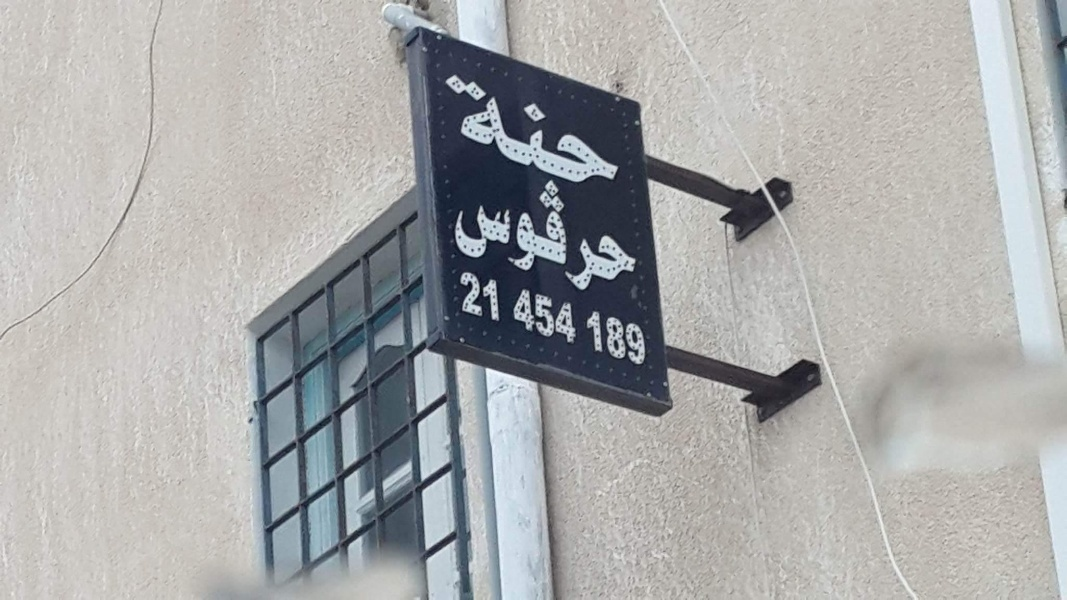text: (465, 157, 480, 311), (481, 157, 496, 311), (497, 157, 512, 311), (513, 157, 528, 311), (529, 157, 544, 311), (545, 157, 560, 311), (561, 157, 576, 311), (577, 157, 592, 311), (593, 157, 608, 311), (609, 157, 624, 311), (625, 157, 640, 311), (449, 67, 464, 209), (465, 67, 480, 209), (481, 67, 496, 209), (497, 67, 512, 209), (513, 67, 528, 209), (529, 67, 544, 209), (545, 67, 560, 209), (561, 67, 576, 209), (577, 67, 592, 209), (593, 67, 608, 209), (609, 67, 624, 209), (457, 157, 464, 311), (513, 279, 528, 349), (529, 279, 544, 349), (545, 279, 560, 349), (561, 279, 576, 349), (593, 306, 608, 372), (609, 306, 624, 372), (625, 306, 640, 372), (465, 269, 480, 328), (481, 269, 496, 328), (442, 67, 448, 209), (641, 306, 651, 372), (625, 67, 629, 209), (641, 157, 644, 311), (585, 306, 592, 372), (457, 269, 464, 328), (497, 269, 504, 328), (577, 279, 580, 349), (511, 279, 512, 349)
